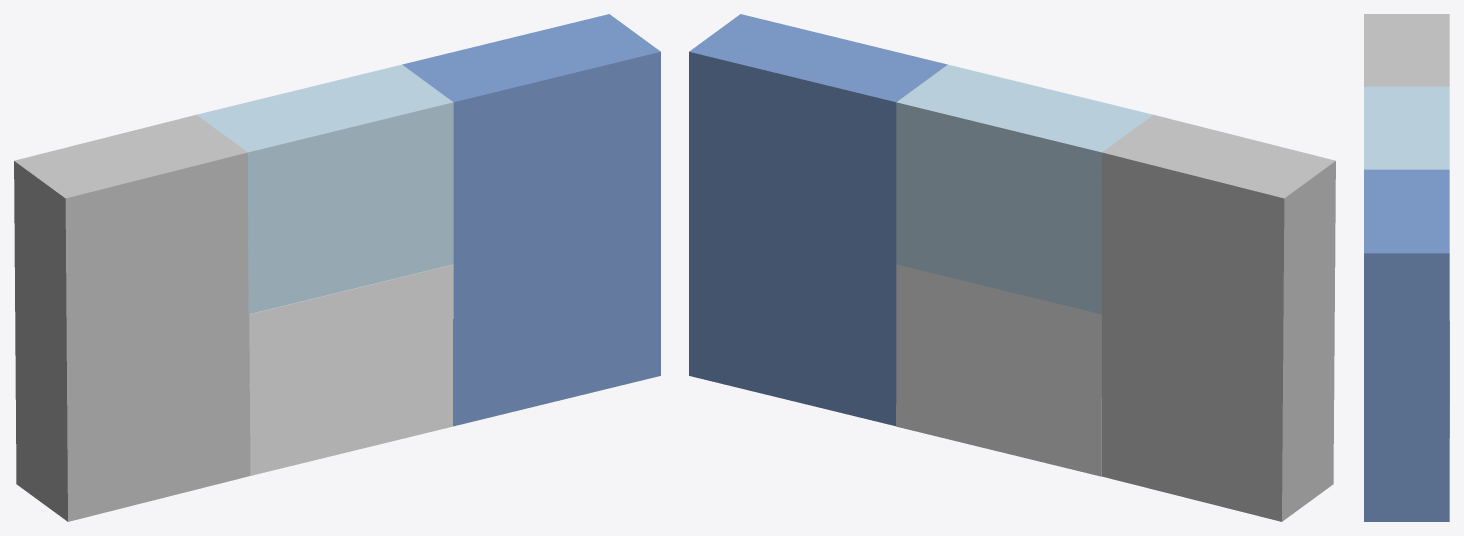
Rendered from robot.glb.
The picture shows the model from 3 angles, left to right: view 1: azimuth 30°, elevation 25°; view 2: azimuth 150°, elevation 25°; view 3: azimuth 270°, elevation 25°; orthographic projection. The views are drawn at different scales.
Parts seen in each view (by area): view 1: dof_left_arm, dof_right_arm, dof_torso, dof_legs; view 2: dof_left_arm, dof_right_arm, dof_torso, dof_legs; view 3: dof_right_arm, dof_torso, dof_left_arm.
Part boxes in pixels (<box>): dof_left_arm: <box>14,114,250,521</box>; dof_right_arm: <box>402,14,660,426</box>; dof_torso: <box>197,64,453,314</box>; dof_legs: <box>249,264,453,475</box>; dof_left_arm: <box>1101,114,1335,521</box>; dof_right_arm: <box>689,14,947,426</box>; dof_torso: <box>896,64,1152,314</box>; dof_legs: <box>896,264,1101,476</box>; dof_right_arm: <box>1364,169,1449,521</box>; dof_torso: <box>1364,86,1449,169</box>; dof_left_arm: <box>1364,14,1449,86</box>.
Bounding box in the file's own units: 0.1999 × 0.1045 × 0.0301.
